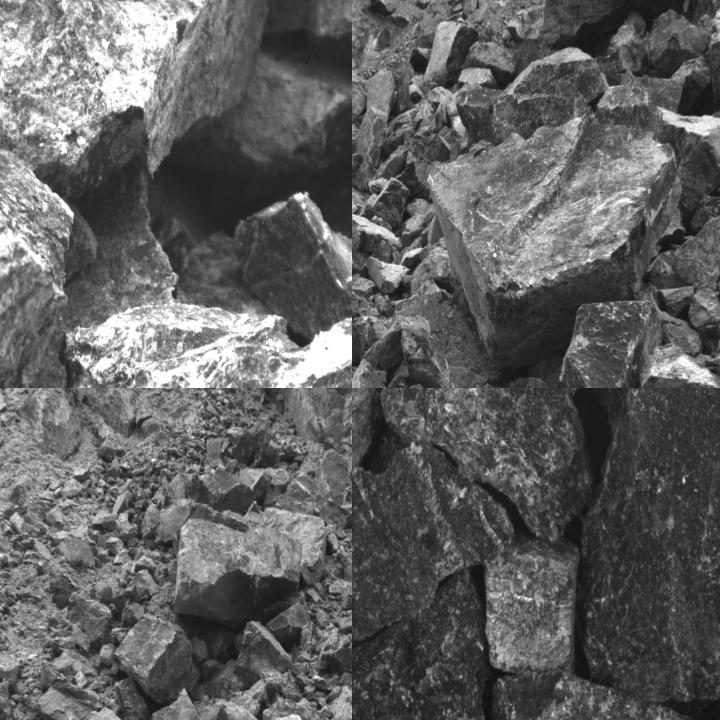stone: (432, 82, 680, 364), (0, 0, 271, 201), (578, 388, 719, 697), (352, 447, 519, 646), (381, 388, 592, 542), (0, 0, 75, 387), (58, 303, 351, 387), (352, 573, 486, 719), (233, 190, 351, 340), (180, 508, 307, 626), (458, 47, 609, 142), (483, 538, 577, 670), (390, 279, 497, 387), (488, 670, 712, 719), (553, 300, 662, 387), (114, 615, 199, 704), (651, 107, 719, 216), (263, 505, 326, 578), (672, 201, 719, 294), (186, 466, 273, 515), (236, 622, 295, 688), (423, 21, 478, 86), (410, 236, 461, 298), (353, 108, 388, 191), (226, 419, 284, 466), (67, 591, 112, 649), (147, 685, 221, 719), (372, 177, 410, 227), (151, 500, 195, 543), (115, 674, 150, 719), (262, 698, 329, 719), (272, 607, 312, 637), (352, 358, 391, 387), (125, 570, 158, 601), (352, 236, 369, 291), (329, 683, 351, 719), (99, 431, 126, 459), (213, 704, 262, 719), (402, 212, 423, 245), (352, 324, 368, 366), (120, 600, 145, 626), (90, 509, 118, 530), (84, 705, 123, 719), (191, 636, 210, 663), (371, 293, 393, 316), (62, 479, 88, 497), (105, 537, 127, 555), (133, 554, 156, 571), (0, 680, 10, 719), (98, 642, 114, 666), (370, 216, 391, 232)
